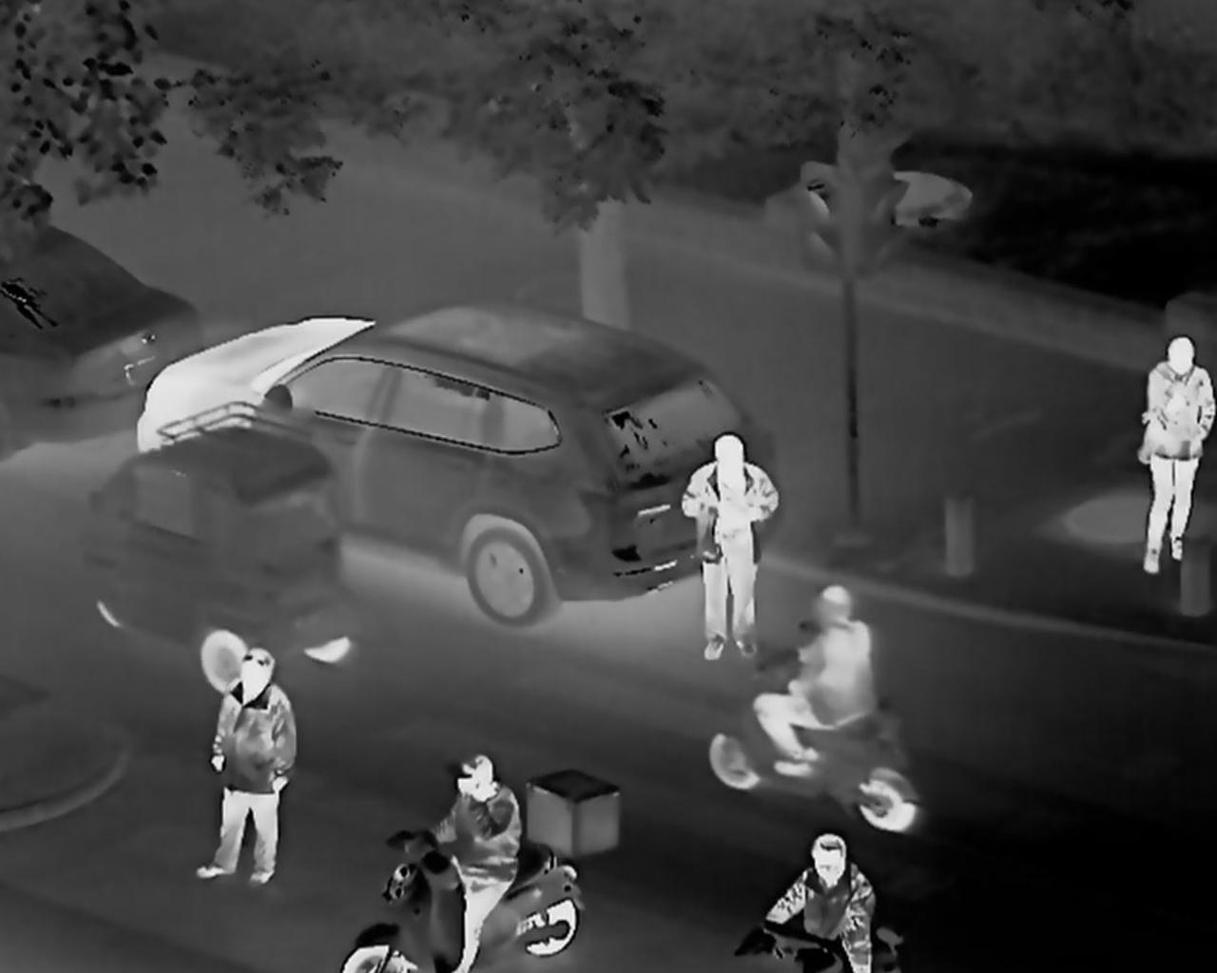person: (753, 580, 882, 787), (432, 750, 538, 970), (198, 650, 291, 883), (1138, 333, 1211, 588), (680, 431, 764, 642), (759, 828, 890, 958)
